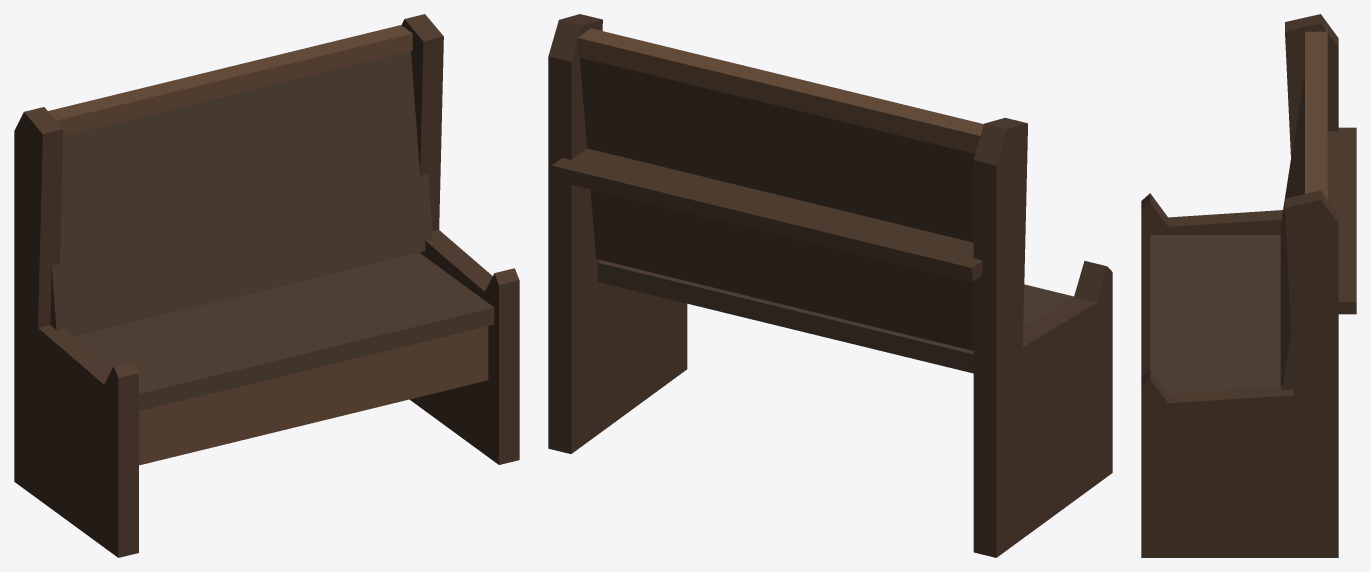
The model's file is pew.glb.
The picture shows the model from 3 angles, left to right: view 1: azimuth 30°, elevation 25°; view 2: azimuth 150°, elevation 25°; view 3: azimuth 270°, elevation 25°; orthographic projection. The views are drawn at different scales.
Parts seen in each view (by area): view 1: pew; view 2: pew; view 3: pew.
Part boxes in pixels (bbox=[...]): pew: bbox=[14, 14, 519, 557]; pew: bbox=[548, 14, 1112, 557]; pew: bbox=[1141, 14, 1356, 557].
Bounding box in the file's own units: 0.98 × 0.88 × 0.48.
